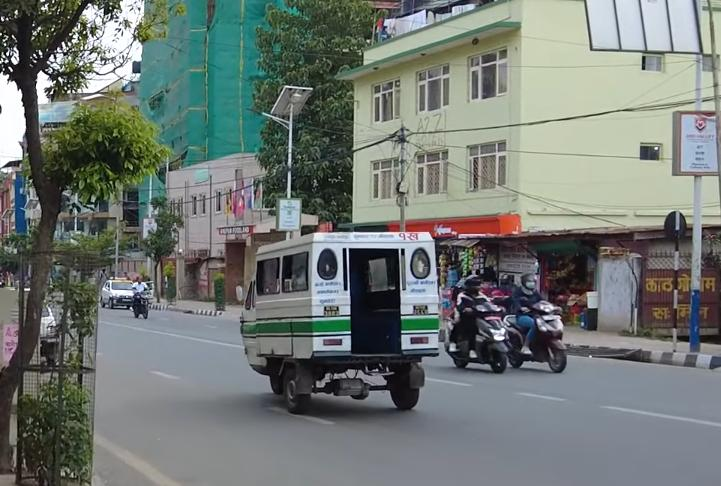bike: (131, 281, 153, 324)
scooter: (504, 294, 578, 376), (445, 296, 513, 378)
taxi: (100, 276, 139, 311)
tempo: (238, 226, 460, 427)
